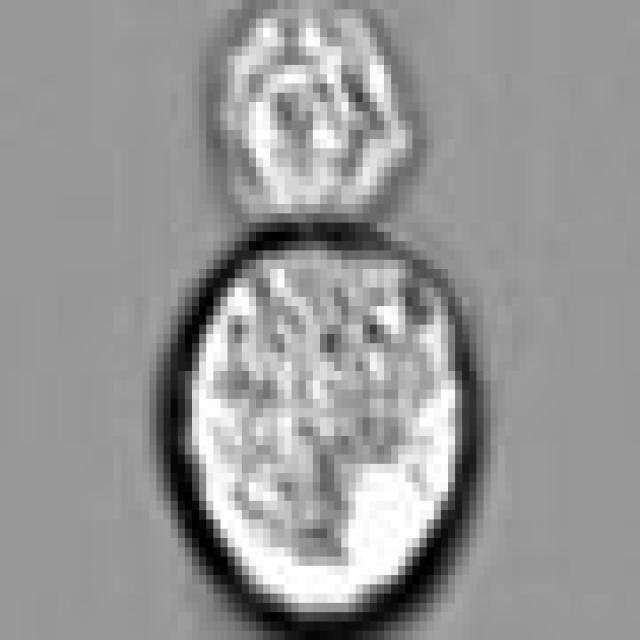Cancer Cell: (164, 204, 484, 622)
WBC: (206, 9, 412, 223)
